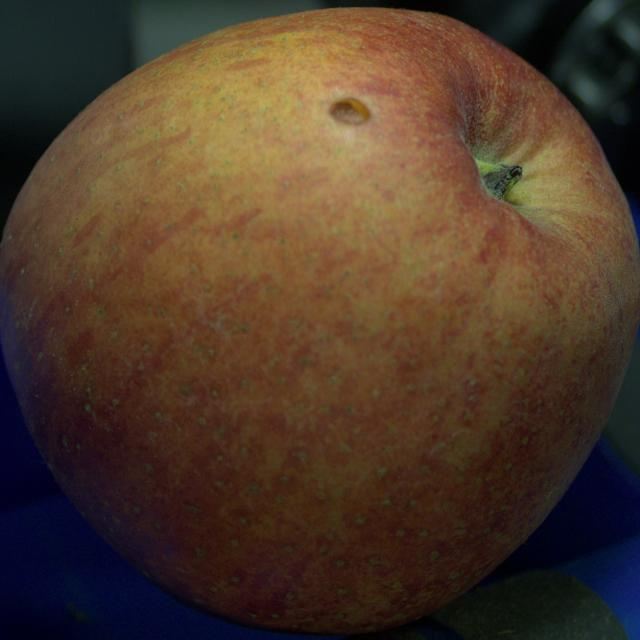apple: (0, 8, 639, 634)
pest: (329, 98, 370, 124)
